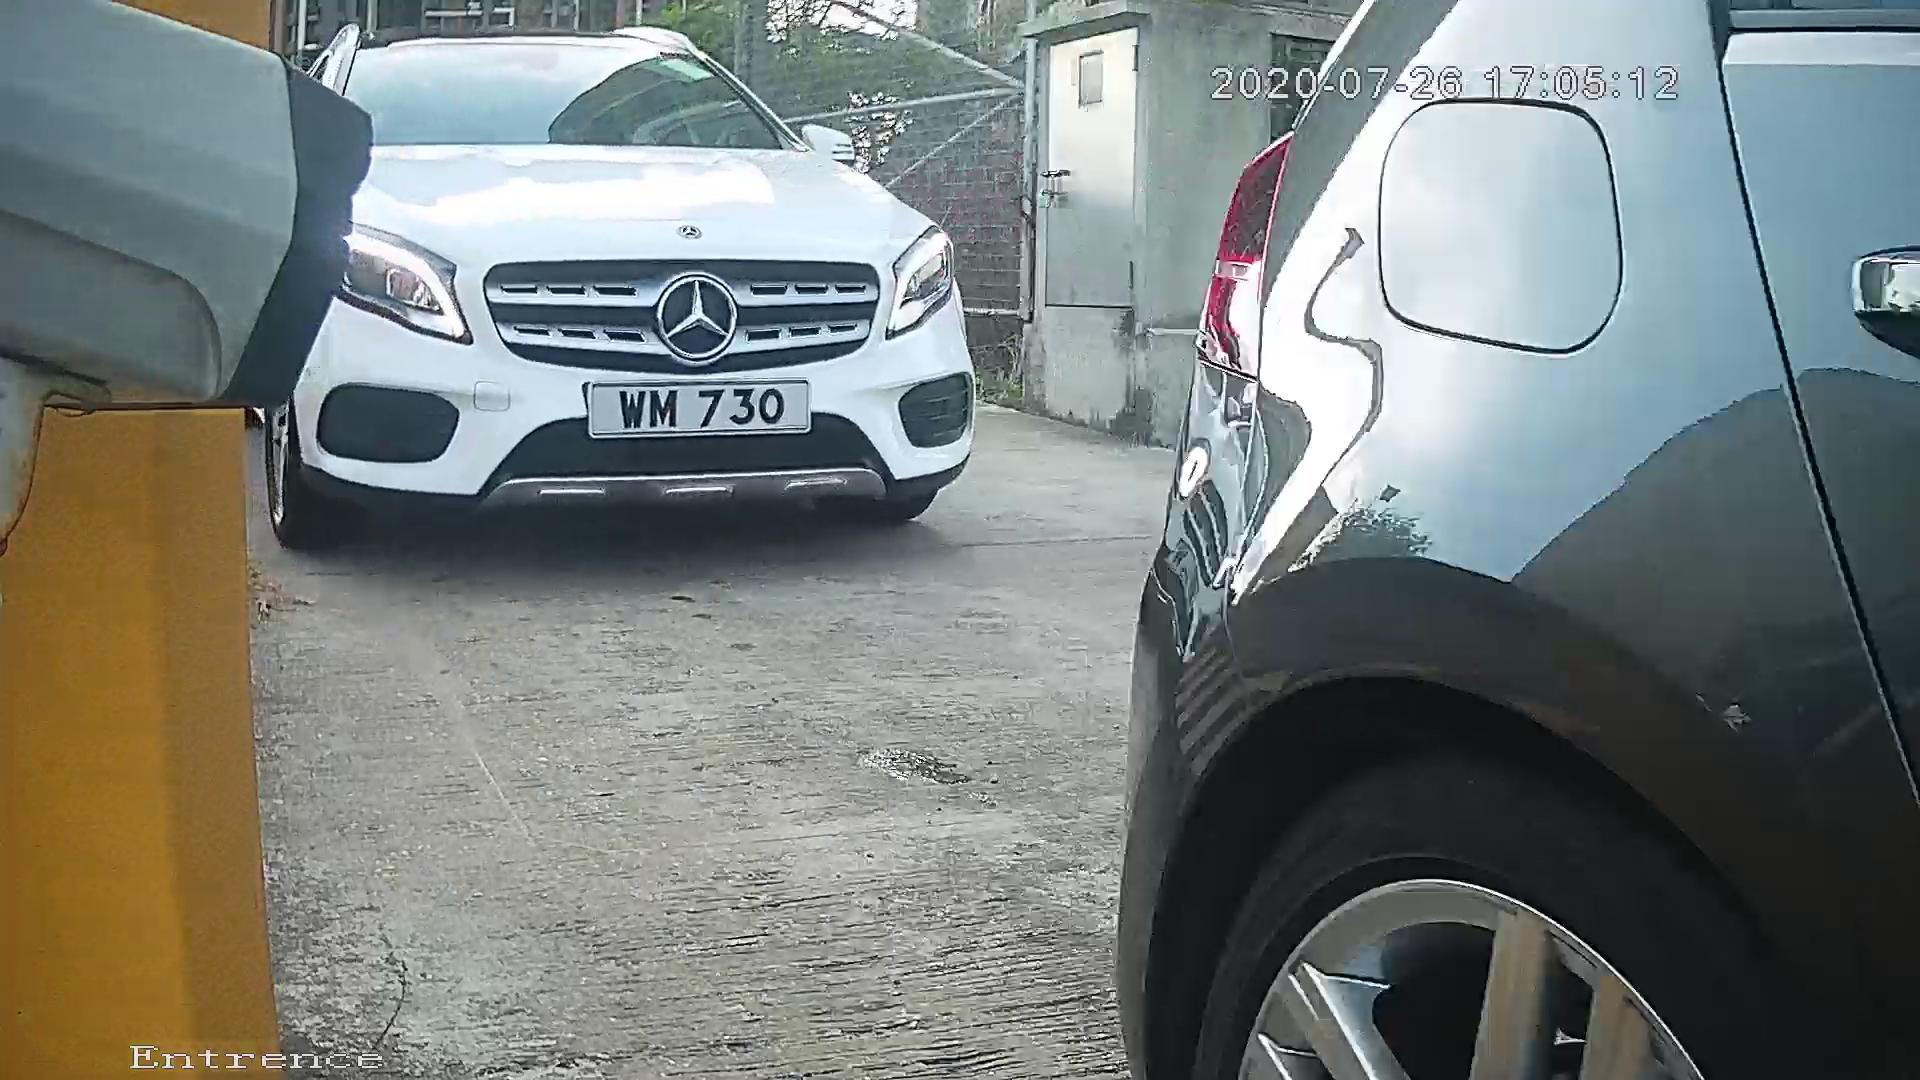privatecar: (138, 5, 1166, 574)
